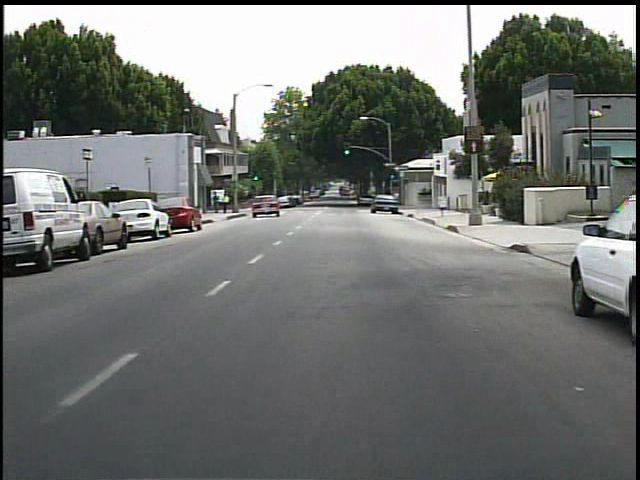person: (211, 191, 223, 216), (221, 192, 232, 215)
